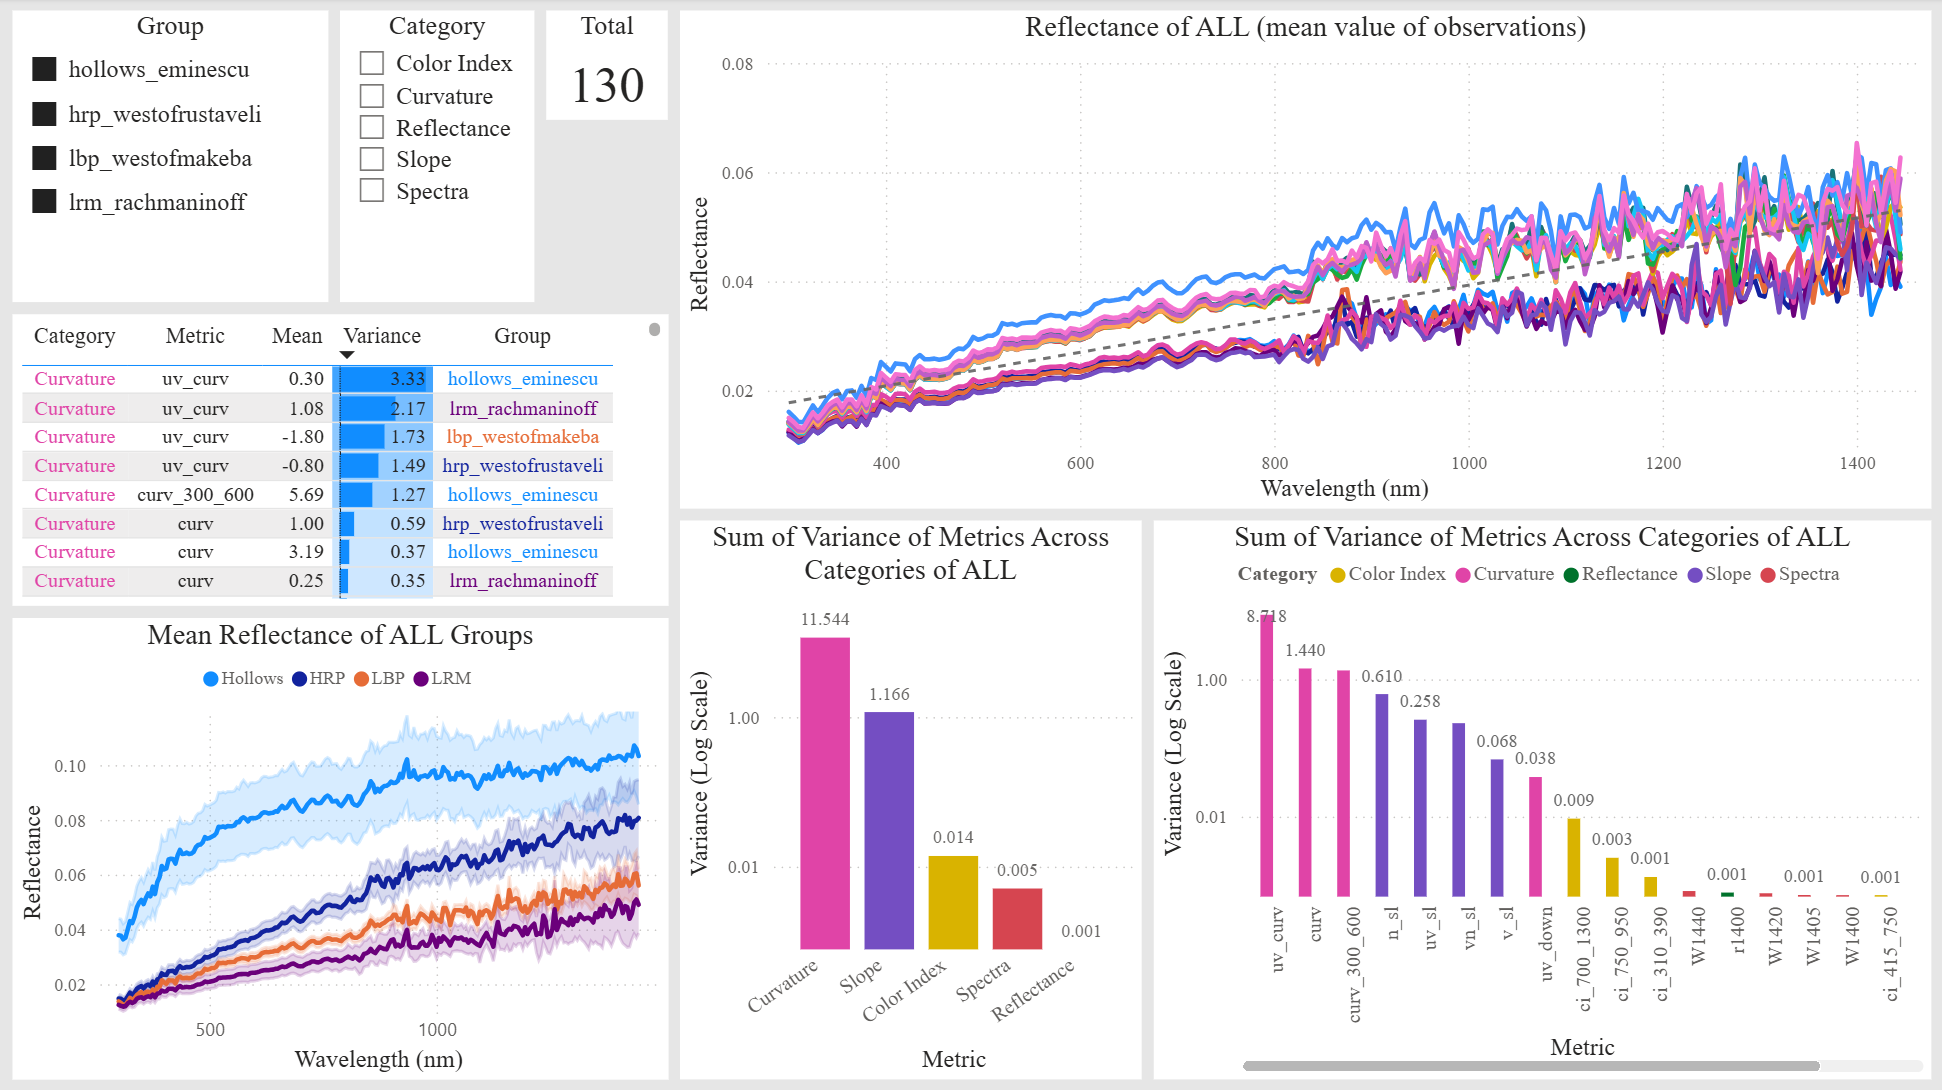

This screenshot's page, from the dashboard's own definition file:
{"tool":"powerbi","page":{"name":"Espectros","canvas":[1280,720],"ordinal":0},"visuals":[{"type":"slicer","title":"Group","fields":{"Values":["Dim_Group.group_title"]},"box":[8,8,208,192],"z":0},{"type":"lineChart","fields":{"Category":["Spectra_Long.wl_nm"],"Y":["Avg(Spectra_Long.Reflectance)"],"Series":["Spectra_Long.id"]},"box":[448,8,824,328],"z":1000},{"type":"card","title":"Total","fields":{"Values":["Dim_Group.Total_Spectra_Band"]},"box":[360,8,80,72],"z":2000},{"type":"clusteredColumnChart","fields":{"Category":["Importance_All.Metric"],"Y":["Sum(Importance_All.Var)"],"Series":["Importance_All.Category"]},"box":[760,344,512,368],"z":3000},{"type":"tableEx","fields":{"Values":["Importance_All.Category","Importance_All.Metric","Importance_All.Mean","Avg(Importance_All.Var)","Dim_Group.group_title"]},"box":[8,208,432,192],"z":4000},{"type":"slicer","title":"Category","fields":{"Values":["Importance_All.Category"]},"box":[224,8,128,192],"z":5000},{"type":"lineChart","fields":{"Category":["Spectra_Long.wl_nm"],"Series":["Spectra_Long.group_title"],"Y":["Spectra_Long.Mean Reflectance"]},"box":[8,408,432,304],"z":6000},{"type":"clusteredColumnChart","fields":{"Y":["Sum(Importance_All.Var)"],"Category":["Importance_All.Category"]},"box":[448,344,304,368],"z":7000}]}

Visuals, with their boxes in screenshot pixels (x1, y1, x2, y2), scaled from the page's 1280x720 canvas onto the 1942x1090 screenshot:
"Group" slicer: 12 12 328 303
lineChart - Spectra_Long.wl_nm x Avg(Spectra_Long.Reflectance): 680 12 1930 509
"Total" card: 546 12 668 121
clusteredColumnChart - Importance_All.Metric x Sum(Importance_All.Var): 1153 521 1930 1078
tableEx - Importance_All.Category x Importance_All.Metric: 12 315 668 606
"Category" slicer: 340 12 534 303
lineChart - Spectra_Long.wl_nm x Spectra_Long.group_title: 12 618 668 1078
clusteredColumnChart - Sum(Importance_All.Var) x Importance_All.Category: 680 521 1141 1078
